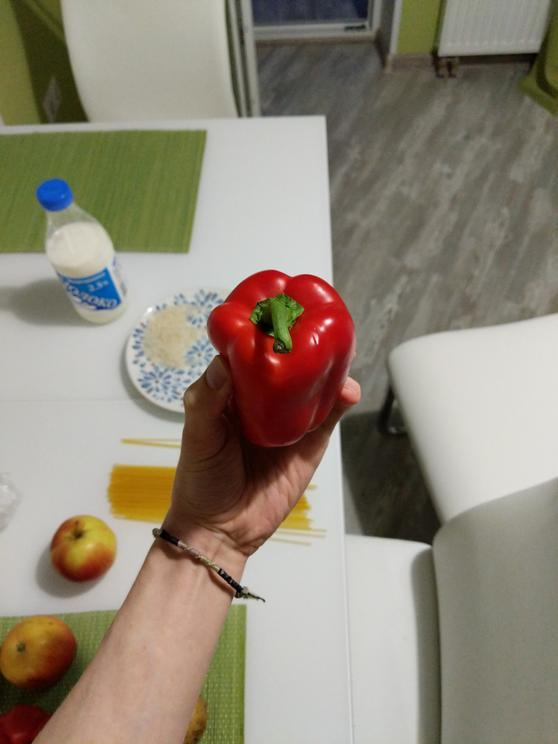milk: (35, 167, 135, 342)
pepper: (205, 264, 359, 456)
rice: (140, 300, 206, 366)
spaghetti: (93, 429, 171, 523)
